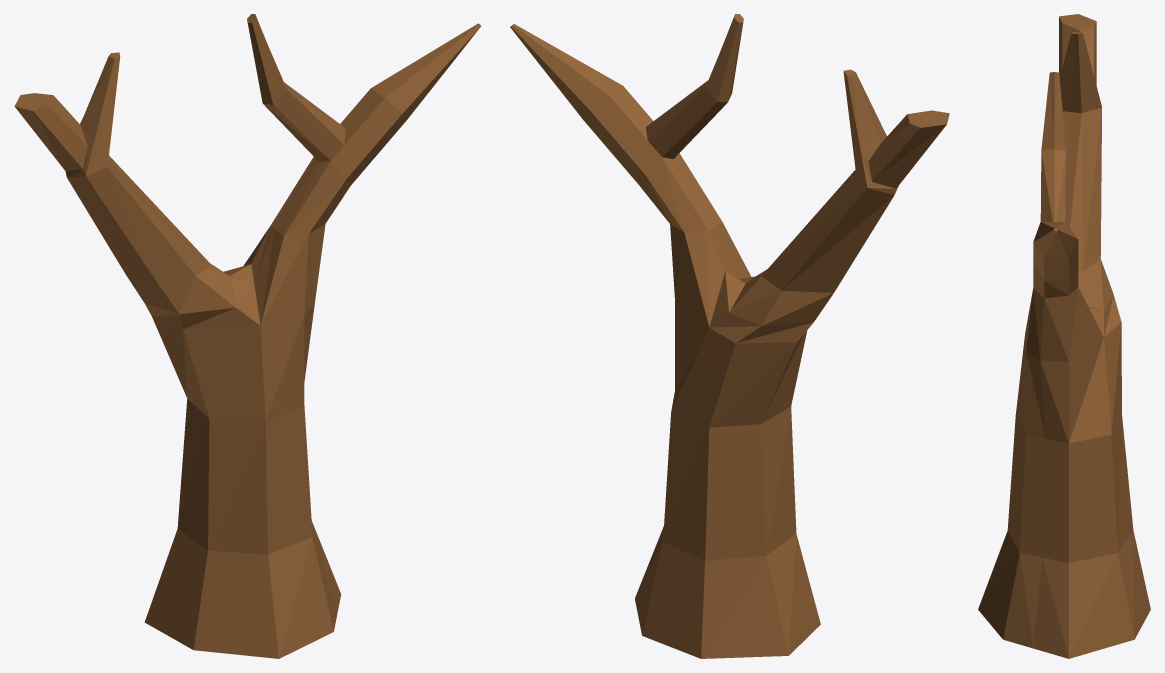
The model's file is Strauch kaputt II.fbx.
The picture shows the model from 3 angles, left to right: view 1: azimuth 30°, elevation 25°; view 2: azimuth 150°, elevation 25°; view 3: azimuth 270°, elevation 25°; orthographic projection. The views are drawn at different scales.
Parts seen in each view (by area): view 1: Strauch_kaputt_II; view 2: Strauch_kaputt_II; view 3: Strauch_kaputt_II.
Part boxes in pixels (left/top/right/bottom): Strauch_kaputt_II: left=14, top=14, right=480, bottom=658; Strauch_kaputt_II: left=510, top=14, right=949, bottom=658; Strauch_kaputt_II: left=978, top=14, right=1150, bottom=658.
Bounding box in the file's own units: 431 × 552 × 159.
